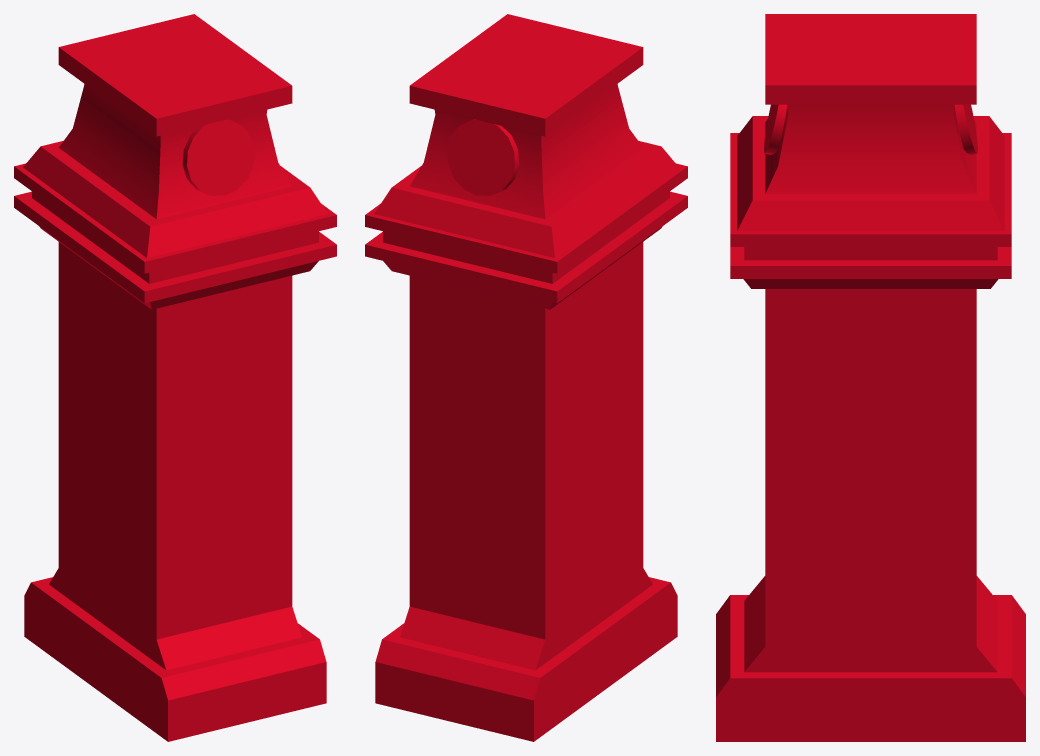
File: SM_doorfront.fbx
3 views of the same model, side by side, from view 1: azimuth 30°, elevation 25°; view 2: azimuth 150°, elevation 25°; view 3: azimuth 270°, elevation 25° (orthographic). The views are drawn at different scales.
Parts seen in each view (by area): view 1: main_low.001; view 2: main_low.001; view 3: main_low.001.
Part boxes in pixels (bbox=[...]): main_low.001: bbox=[14, 14, 336, 741]; main_low.001: bbox=[365, 14, 687, 741]; main_low.001: bbox=[716, 14, 1025, 741].
Size of the model in its own units: 34 by 102 by 44.
